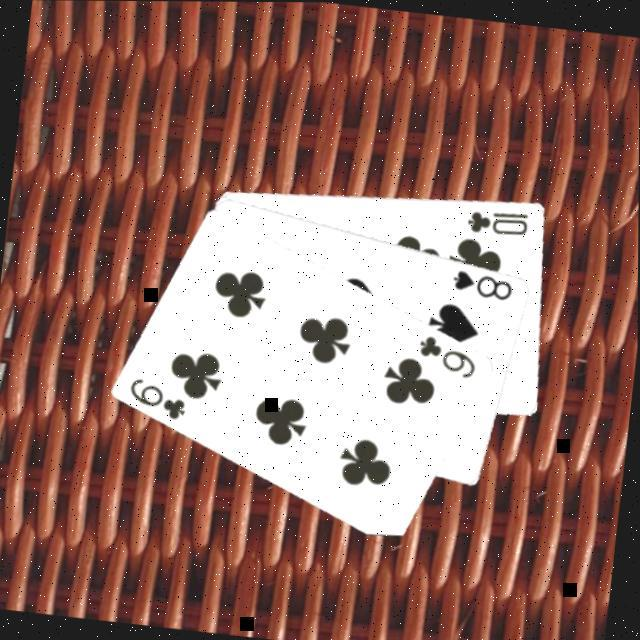10C: (466, 201, 534, 238)
6C: (416, 328, 484, 380), (126, 371, 194, 422)
8S: (450, 262, 519, 302)
